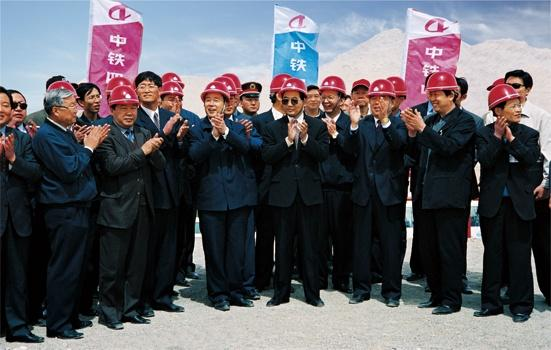Helmet: (199, 81, 231, 121), (425, 72, 457, 111)
NoHelmet: (44, 88, 77, 124), (134, 71, 162, 106)
